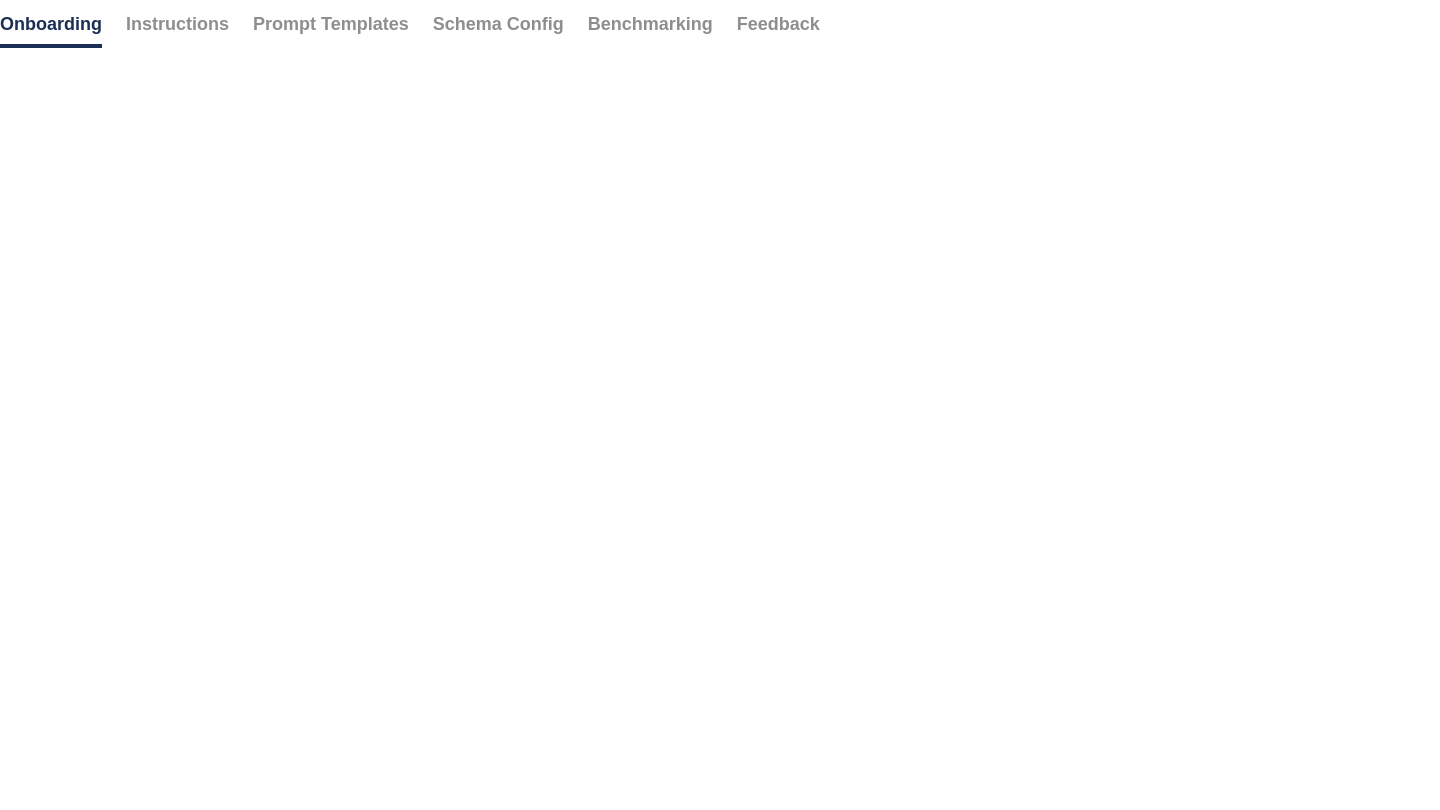
Test: SettingTabsSection › should show warning dialog when changing tabs with unsaved changes
Click the tab "Instructions". click: (178, 24)
box: [126,0,229,48]
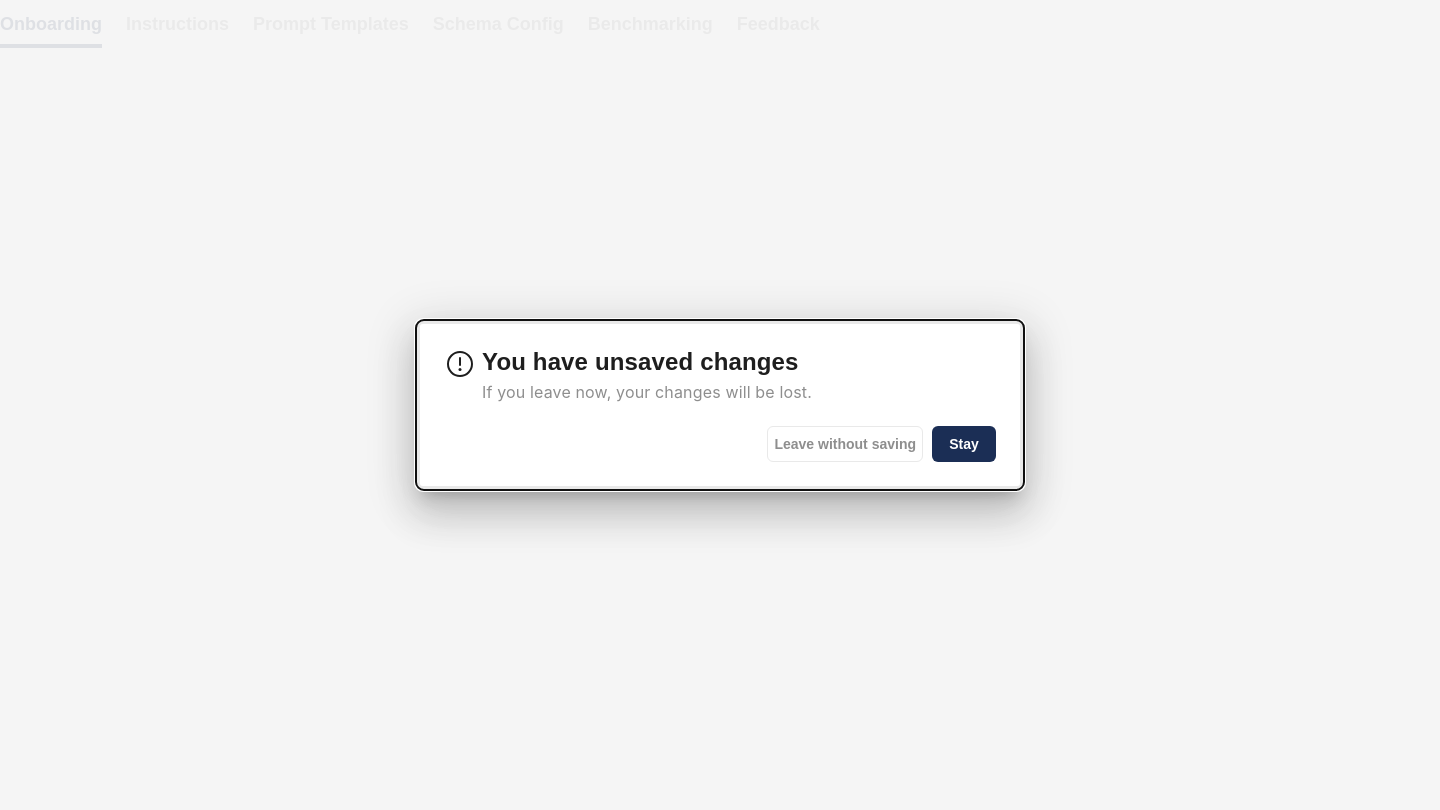
Expected: the element with test id "warning-dialog" is shown
